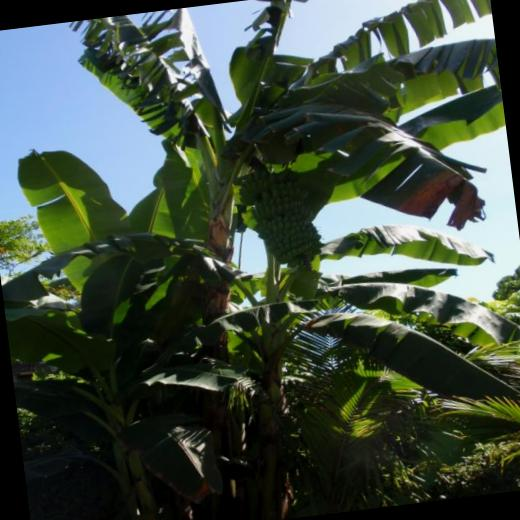Banana: (236, 162, 326, 272), (264, 202, 271, 217)
